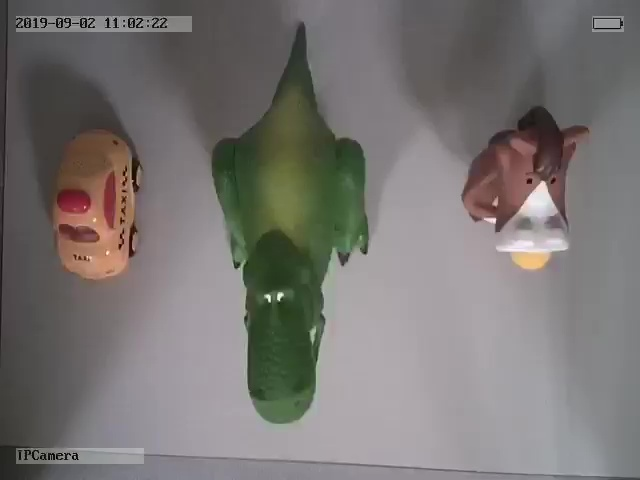car: (48, 126, 145, 284)
horse: (461, 103, 591, 273)
rex: (208, 22, 369, 425)
